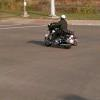Motorcycle: (40, 17, 80, 51)
